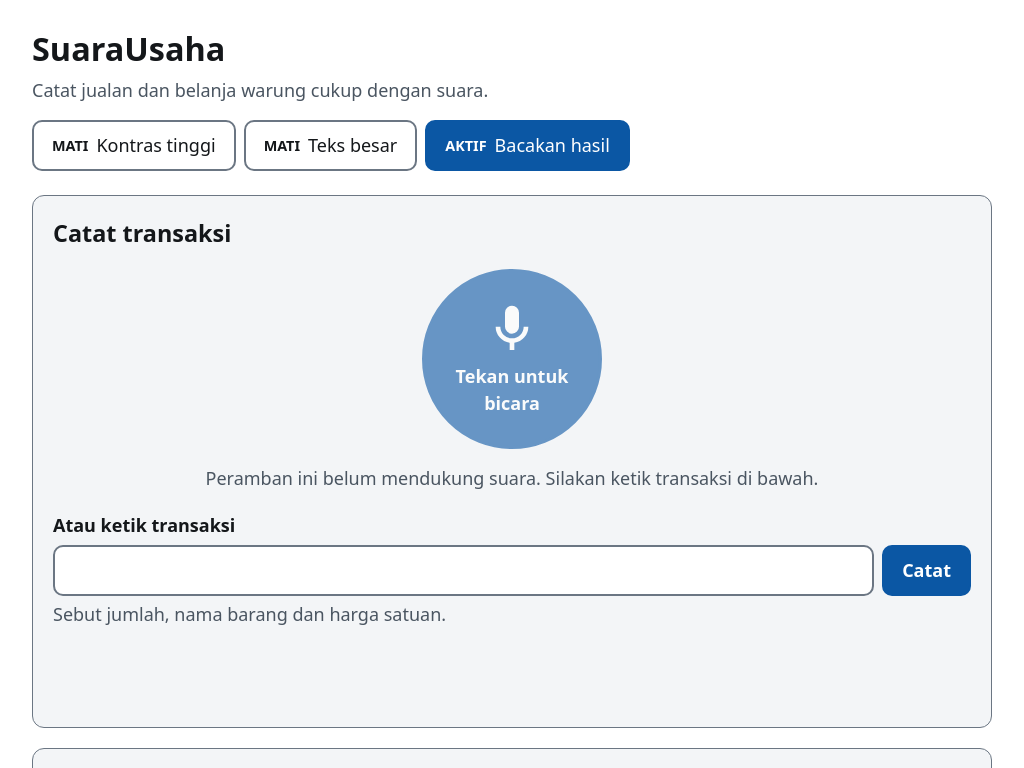
Test: recording by text and keyboard › states errors in words, not just colour
Type "jual tiga kopi" into the field labelled "Atau ketik transaksi" at (464, 571), box 53,545 -> 874,596
Then press Enter
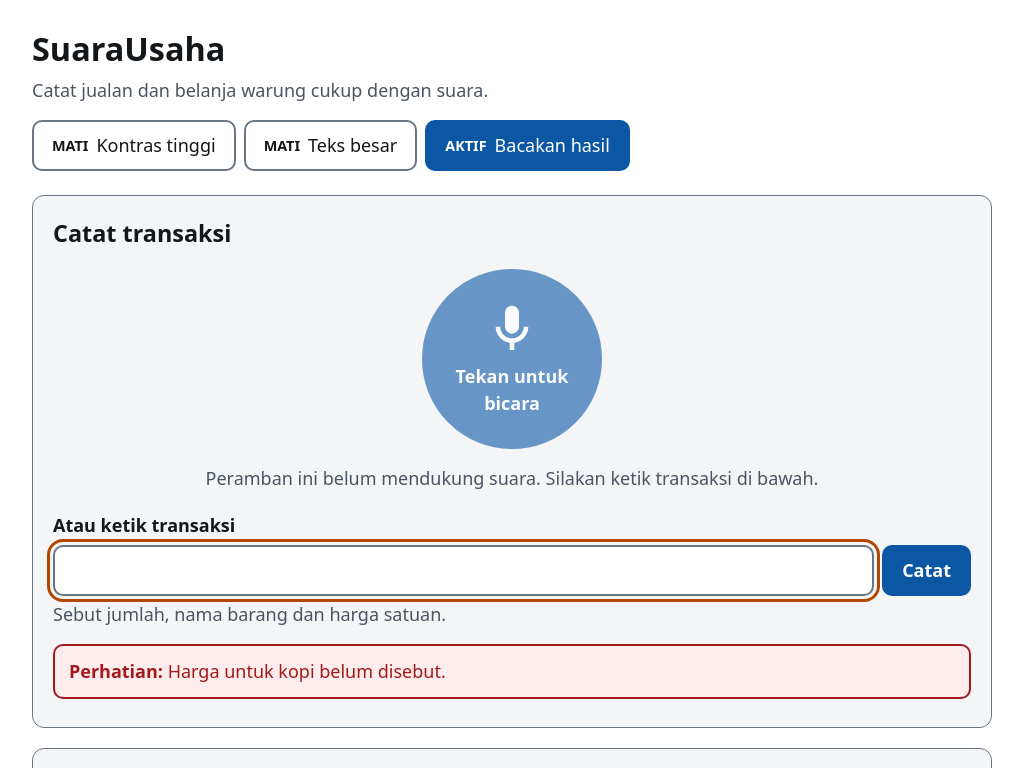
Expected: the message with test id "live-region" reads "Perhatian: Harga untuk kopi belum disebut.", 53,644 -> 971,699
